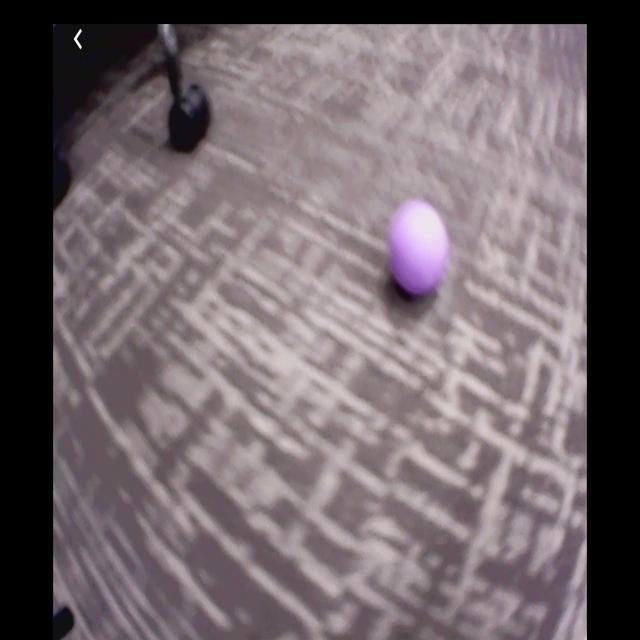ball: (390, 202, 449, 296)
